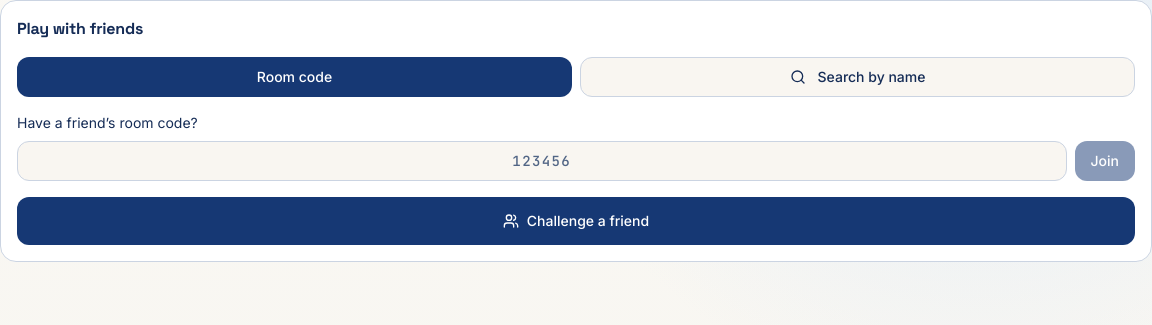
Test case: debounces name search and never shows an old request after the name changes
This screenshot has width=1152, height=325.
Click the button "Search by name" at (858, 77), box top-left (580, 57), bottom-right (1135, 97)
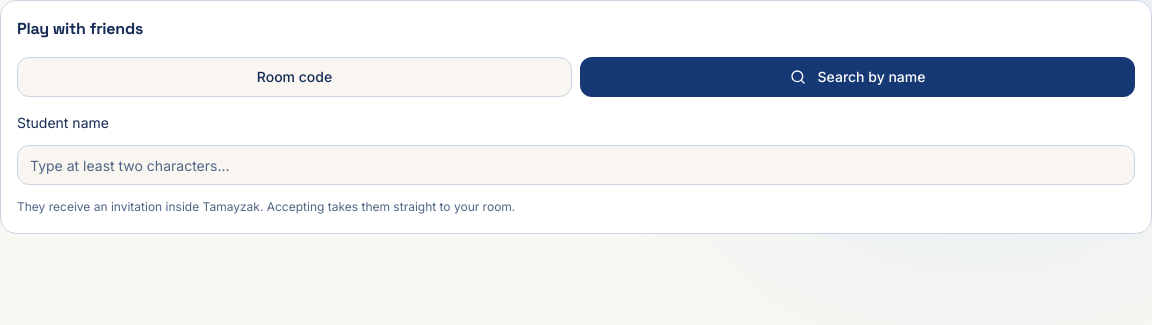
Type "Old" into the field labelled "Student name" at (576, 165), box top-left (17, 145), bottom-right (1135, 185)
Wait 300 ms
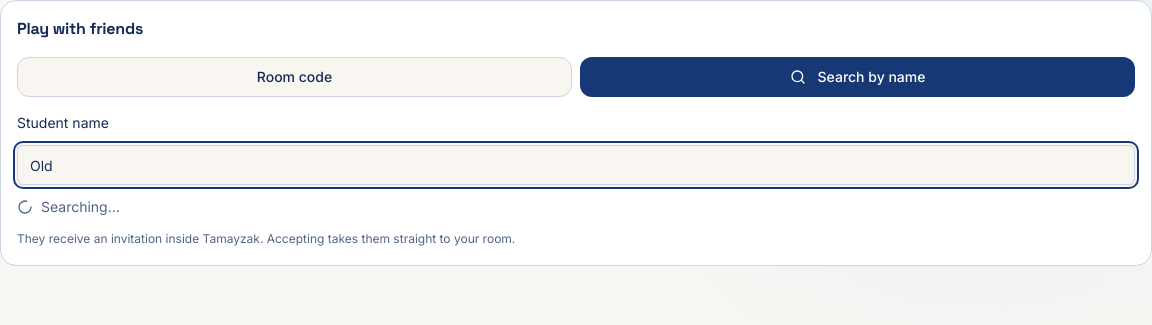
Replace the text in the field labelled "Student name" with "New" at (576, 165), box top-left (17, 145), bottom-right (1135, 185)
Wait 300 ms
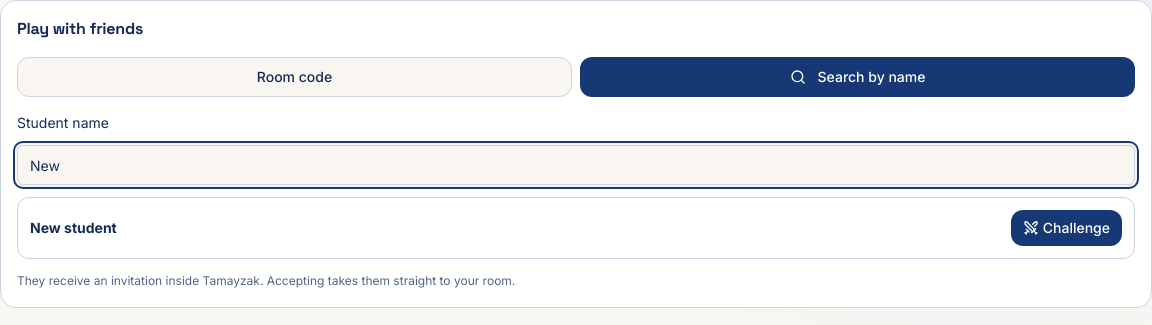
Now the button with aria-label "Challenge New student" is enabled, box top-left (1011, 210), bottom-right (1122, 246)
